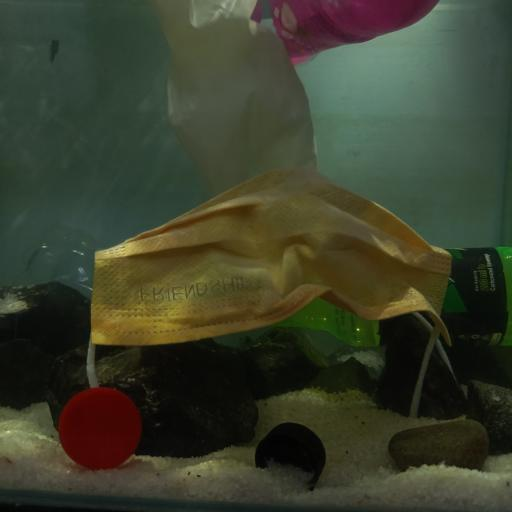bottle_cap: (60, 386, 143, 470), (255, 422, 326, 490)
glove: (151, 0, 318, 191)
mask: (90, 166, 456, 414)
plastic_bottle: (256, 245, 512, 349), (251, 0, 439, 66)
